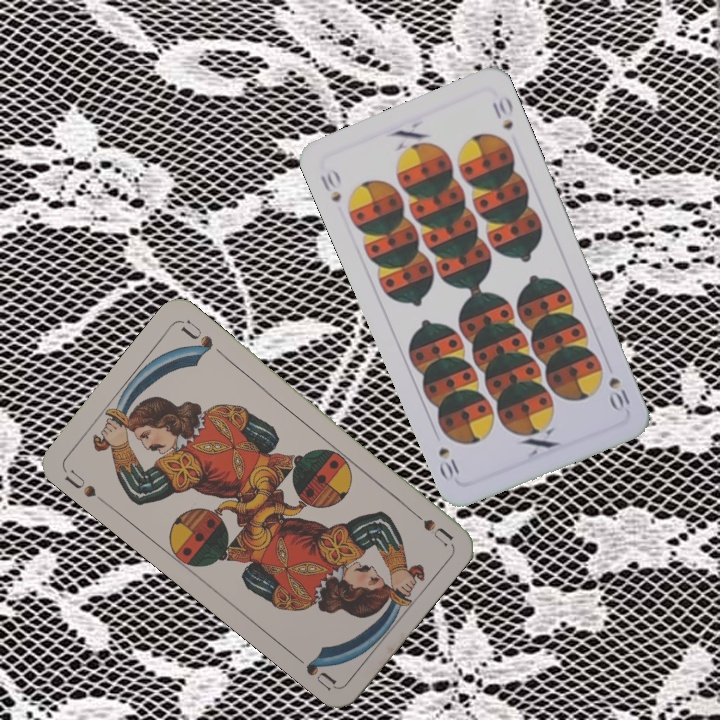S10: (604, 373, 633, 415), (316, 165, 344, 205)
SU: (403, 503, 456, 549), (60, 465, 109, 506)
